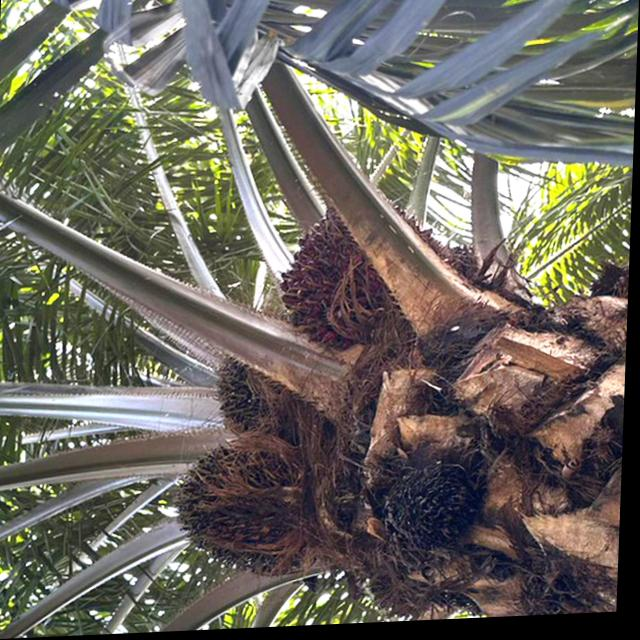ripe: (265, 204, 371, 350)
